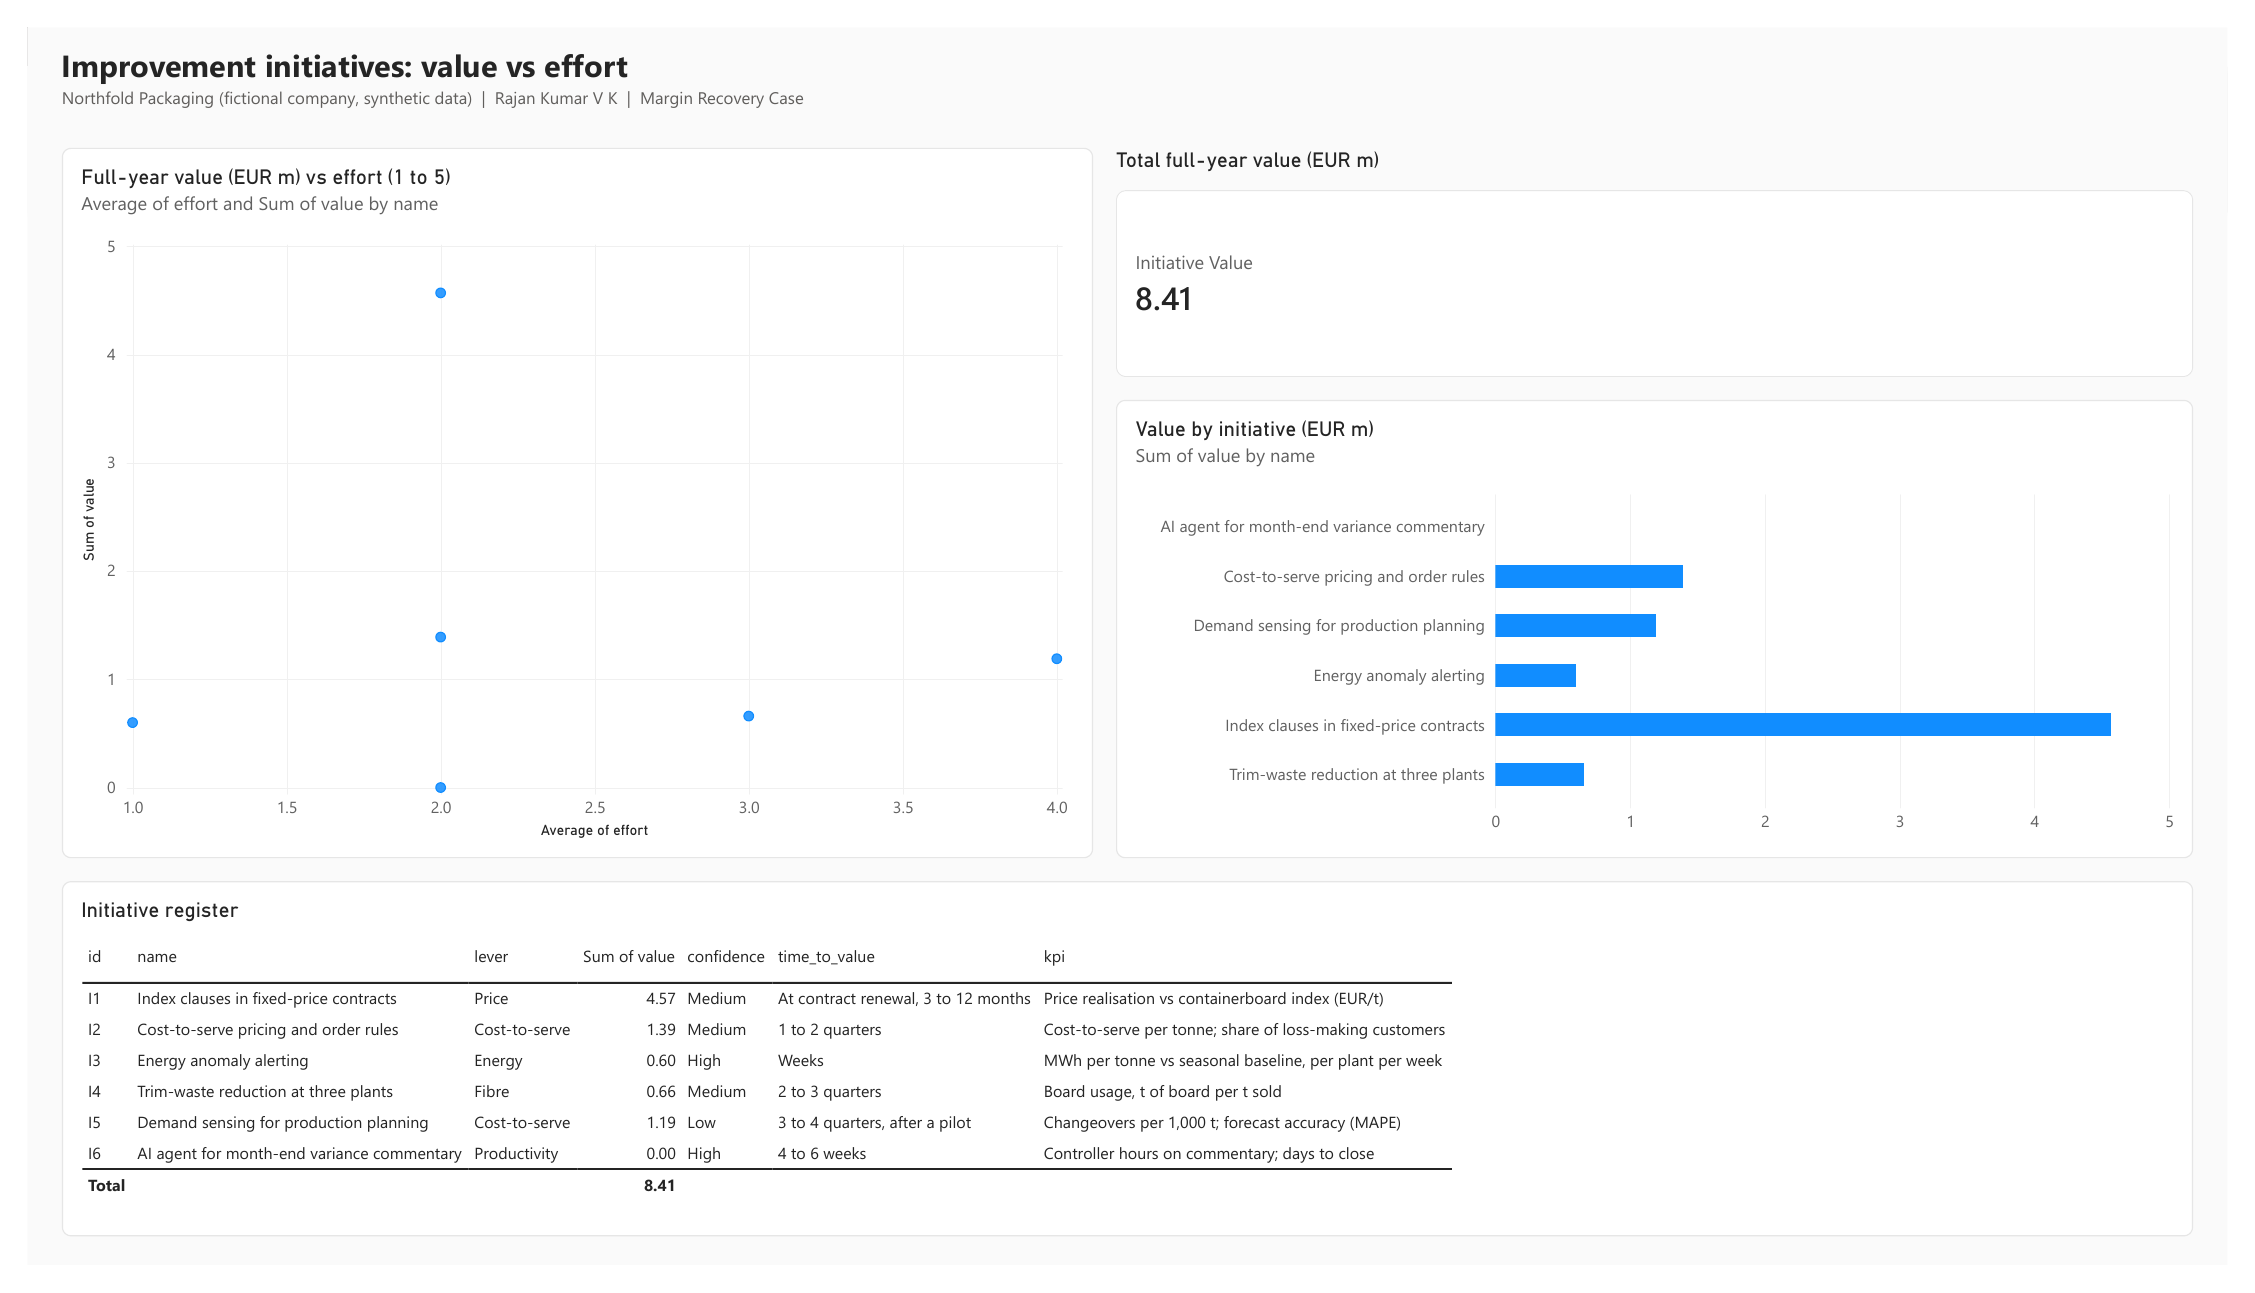

Layout of this report page (visuals, bound fields, positions):
{"tool":"powerbi","page":{"name":"5 Initiatives","canvas":[1920,1080],"ordinal":4},"visuals":[{"type":"textbox","box":[30,15,1860,80],"z":0},{"type":"scatterChart","title":"Full-year value (EUR m) vs effort (1 to 5)","fields":{"Category":["initiatives.name"],"X":["Average(initiatives.effort)"],"Y":["Sum(initiatives.value)"]},"box":[30,105,900,620],"z":1},{"type":"cardVisual","title":"Total full-year value (EUR m)","fields":{"Data":["_Measures.Initiative Value"]},"box":[950,105,940,200],"z":2},{"type":"tableEx","title":"Initiative register","fields":{"Values":["initiatives.id","initiatives.name","initiatives.lever","Sum(initiatives.value)","initiatives.confidence","initiatives.time_to_value","initiatives.kpi"]},"box":[30,745,1860,310],"z":3},{"type":"clusteredBarChart","title":"Value by initiative (EUR m)","fields":{"Category":["initiatives.name"],"Y":["Sum(initiatives.value)"]},"box":[950,325,940,400],"z":4}]}

Visuals, with their boxes in screenshot pixels (x1, y1, x2, y2), scaled from the page's 1920x1080 canvas onto the 2255x1293 screenshot:
textbox: (35, 18, 2220, 114)
"Full-year value (EUR m) vs effort (1 to 5)" scatterChart: (35, 126, 1092, 868)
"Total full-year value (EUR m)" cardVisual: (1116, 126, 2220, 365)
"Initiative register" tableEx: (35, 892, 2220, 1263)
"Value by initiative (EUR m)" clusteredBarChart: (1116, 389, 2220, 868)
